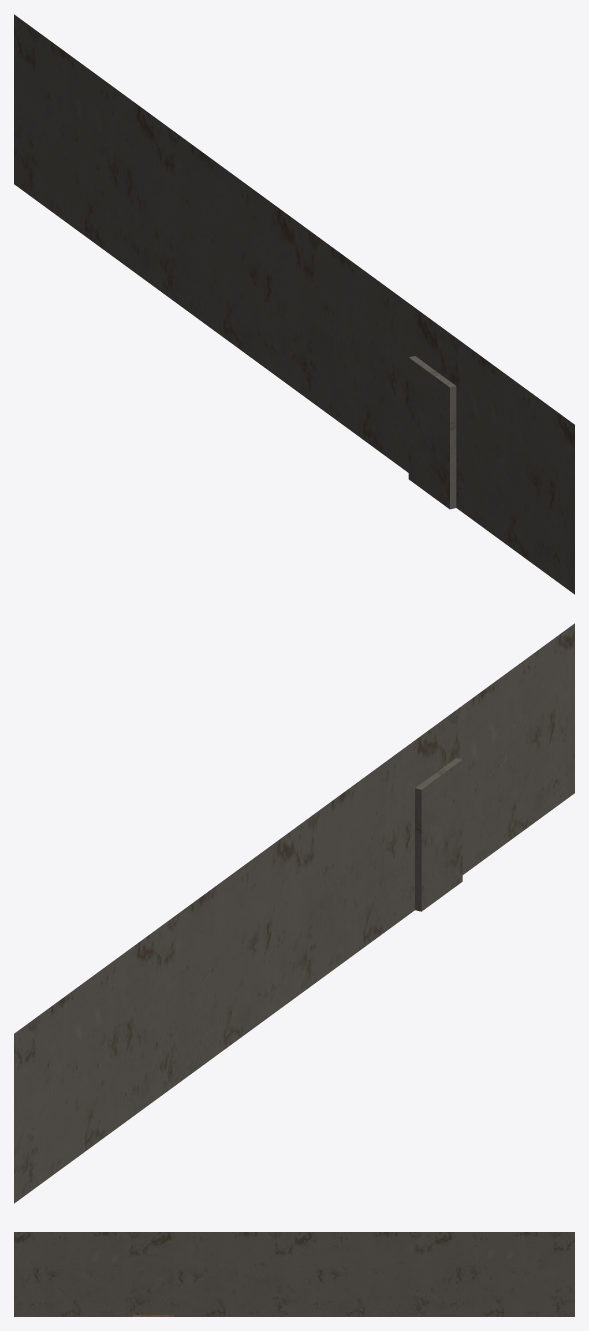
The model's file is Back wall neighbor's house.fbx.
The picture shows the model from 3 angles, top to bottom: view 1: azimuth 30°, elevation 25°; view 2: azimuth 150°, elevation 25°; view 3: azimuth 270°, elevation 25°; orthographic projection. The views are drawn at different scales.
Visible parts, largest first — view 1: Chao.003; view 2: Chao.003; view 3: Chao.003.
Boxes of the visible parts, x1,y1,x2,y2 form: Chao.003: (14,14,574,594); Chao.003: (14,623,574,1203); Chao.003: (14,1232,574,1316).
Size of the model in its own units: 11.87 by 300 by 1795.
